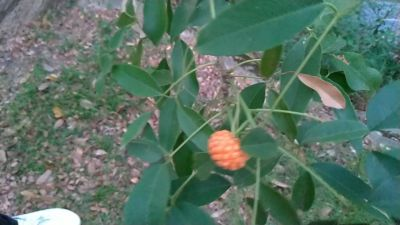eggs: (204, 128, 253, 178)
